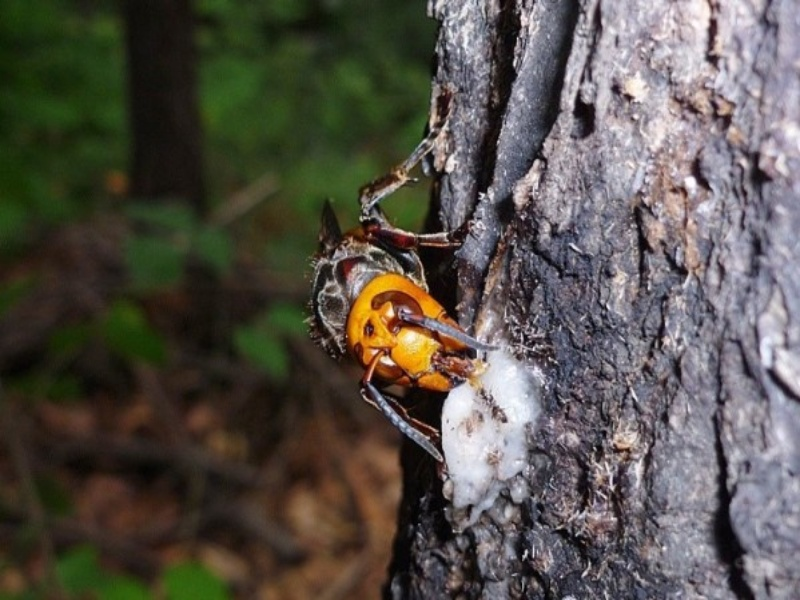asian_giant_hornet: (305, 170, 473, 393)
